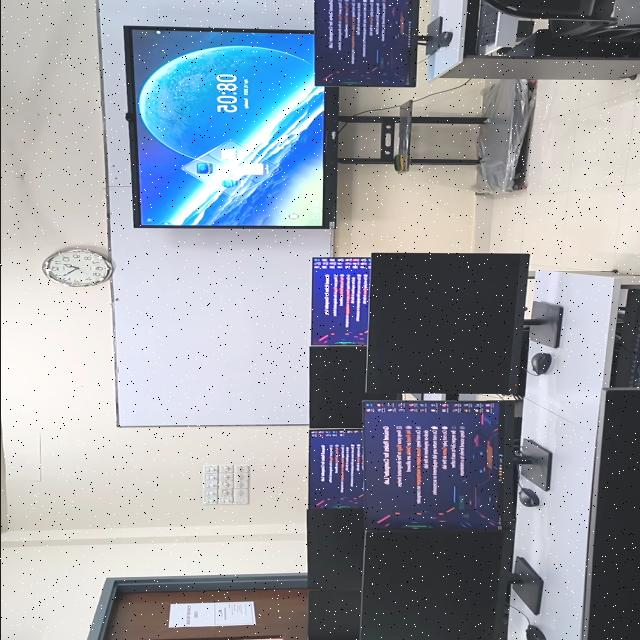Chair: (482, 0, 640, 41)
Cpu: (506, 29, 640, 59)
Digital board: (123, 26, 532, 229)
Keyboard: (627, 298, 640, 387), (477, 4, 497, 46)
Monitor: (366, 253, 561, 395), (363, 400, 550, 530), (359, 529, 542, 640), (586, 390, 640, 640), (314, 0, 431, 87), (309, 346, 398, 428), (310, 258, 369, 345), (305, 508, 363, 589), (309, 429, 363, 509), (307, 591, 358, 640)
Mouse: (529, 353, 551, 375), (519, 488, 538, 507), (524, 625, 545, 640), (438, 31, 452, 47)
